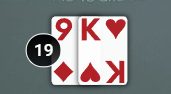9: (50, 16, 77, 43)
k: (76, 16, 105, 44)
